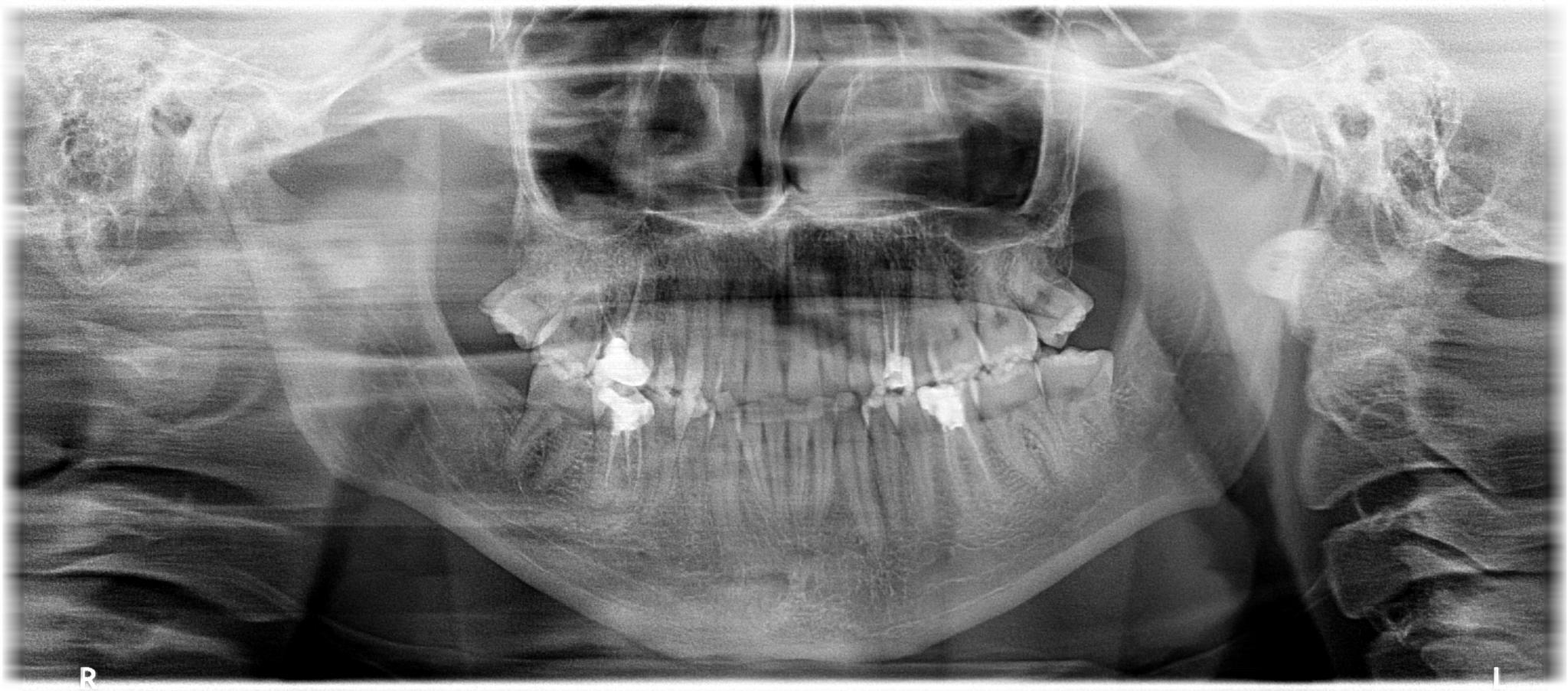Premolars: (509, 179, 1561, 596)
